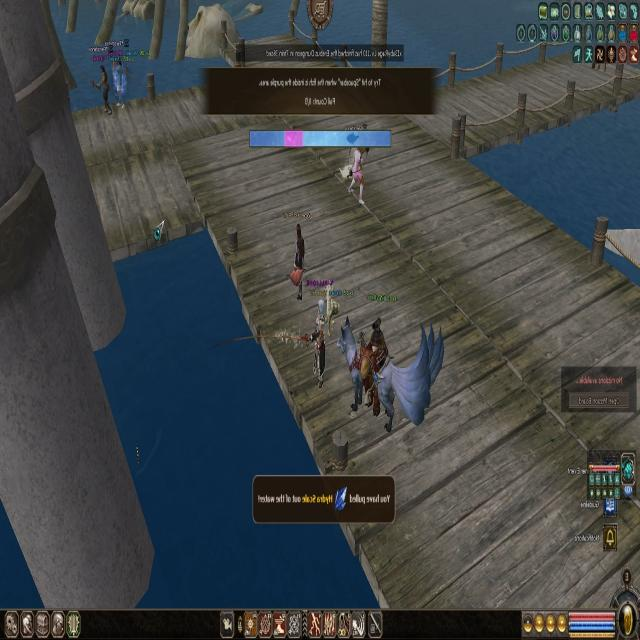box: (284, 130, 302, 147)
fishes: (347, 133, 359, 143)
